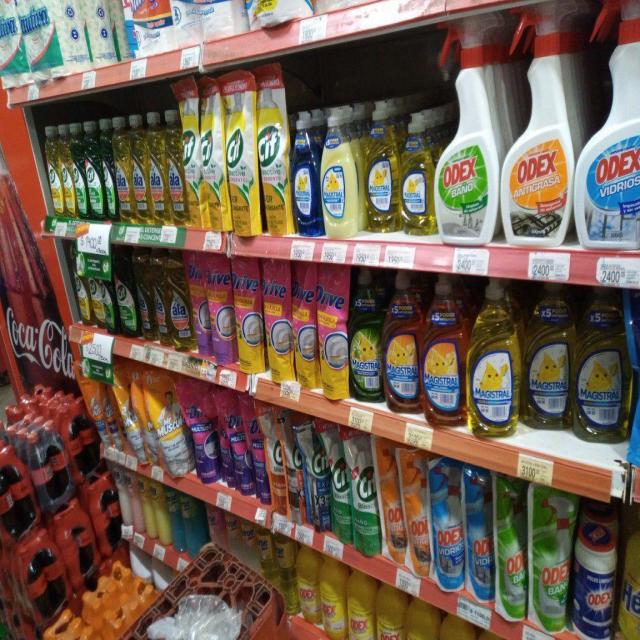ala_conc_amarillo: (168, 248, 190, 351), (148, 110, 166, 226), (168, 104, 185, 226), (115, 114, 132, 224), (132, 113, 148, 225), (138, 246, 153, 341), (154, 246, 168, 346)
cif_conc_bot_amarilla: (45, 124, 61, 218), (74, 245, 90, 325), (61, 122, 72, 219), (90, 245, 102, 329)
cif_conc_botella_verde: (116, 244, 136, 337), (85, 118, 102, 221), (102, 116, 116, 222), (99, 245, 115, 332), (73, 121, 85, 220)
cif_conc_sachet_amarillo: (183, 77, 203, 229)
cif_conc_sachet_verde: (331, 427, 351, 544)
drive: (264, 258, 292, 382), (235, 254, 263, 373), (294, 260, 316, 389)
magistral_con_amarillo: (575, 286, 632, 444), (467, 278, 521, 438), (523, 282, 573, 431), (364, 100, 399, 234), (400, 110, 434, 237)
magistral_con_azul: (292, 108, 320, 236)
magistral_con_crema: (321, 105, 361, 237)
magistral_con_rojo: (422, 274, 466, 427), (384, 269, 420, 413)
